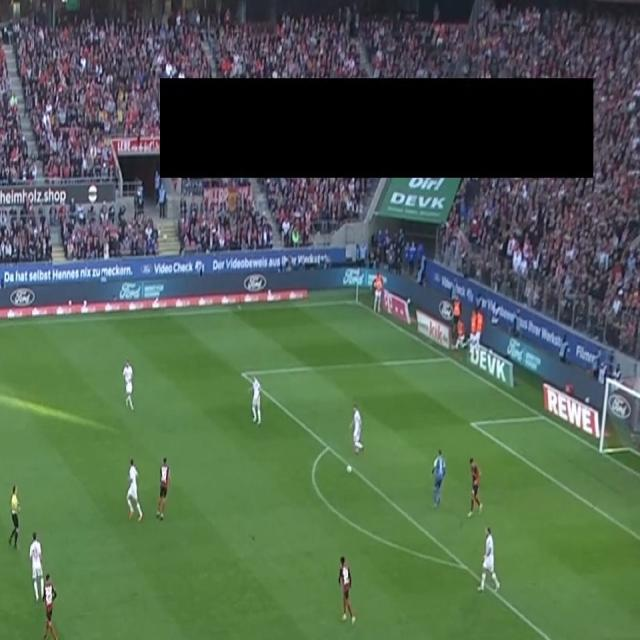ball: (346, 464, 352, 473)
